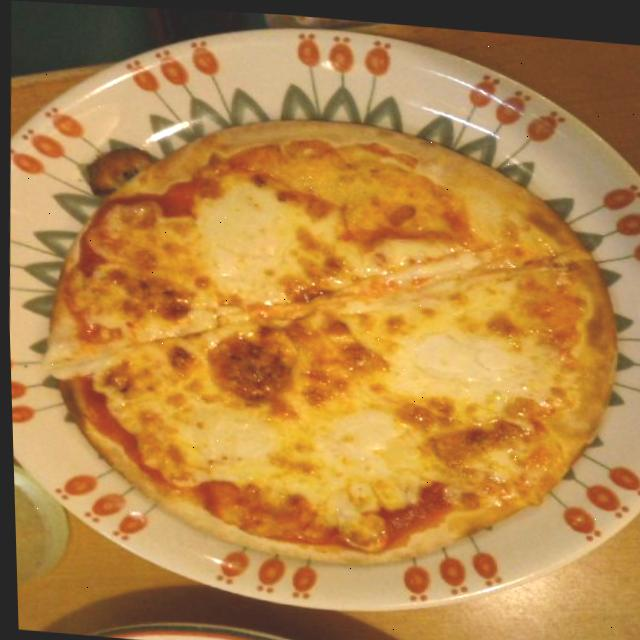汉堡快餐: (0, 4, 640, 631)
